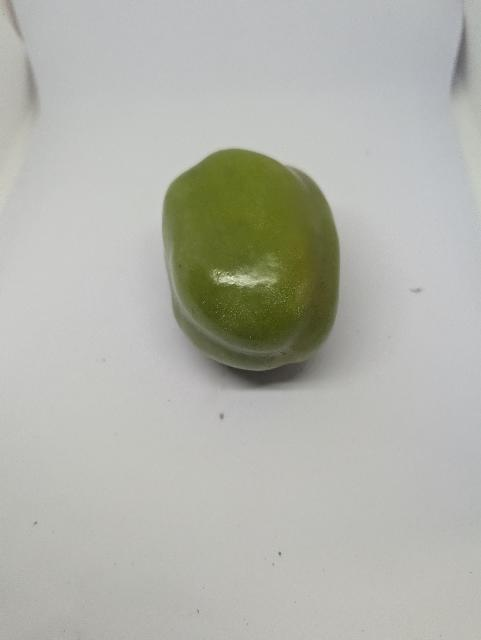green: (144, 140, 359, 379)
